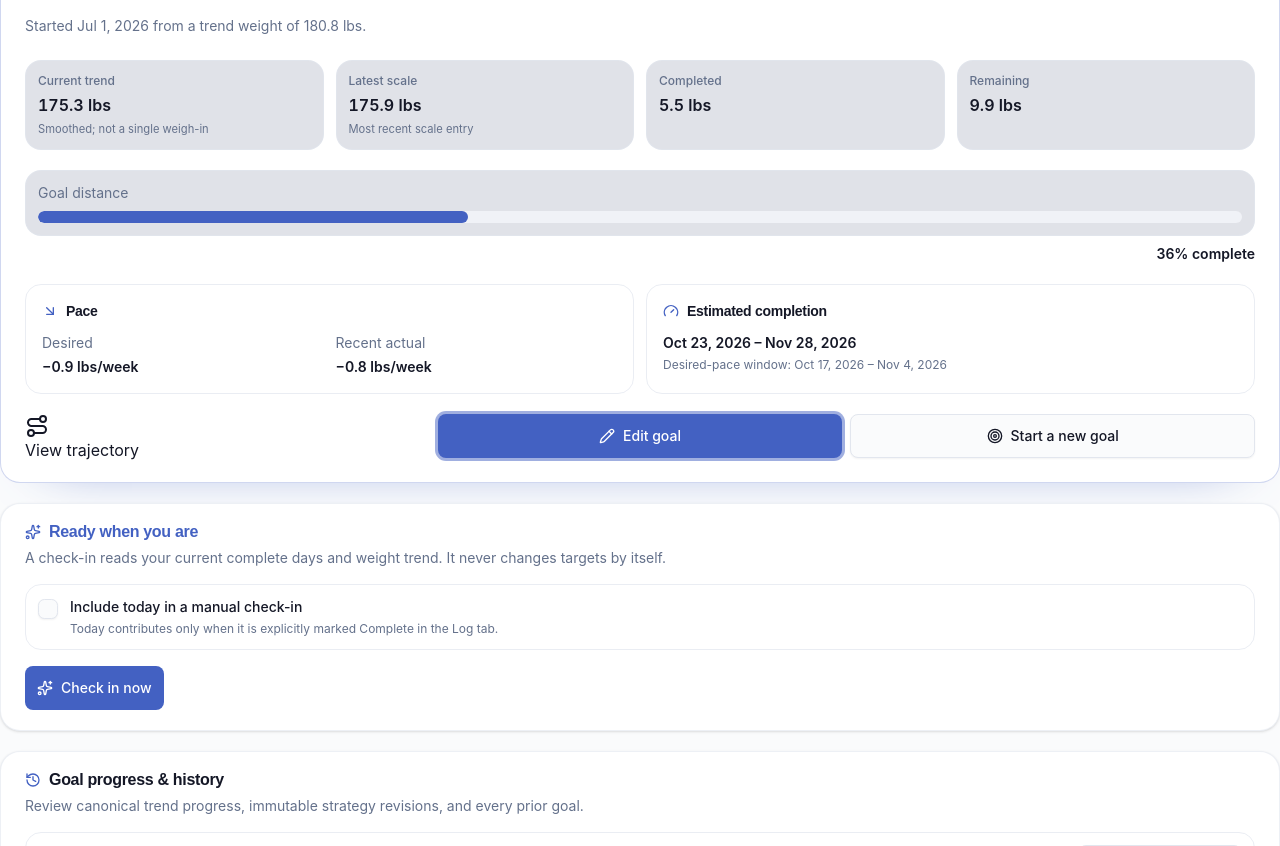
it: AdaptiveCoach › restores focus to the goal action after the dialog closes
(page scrolled)
Step 1. Click the button "Edit goal" → (640, 436), box x1=438 y1=414 x2=842 y2=458
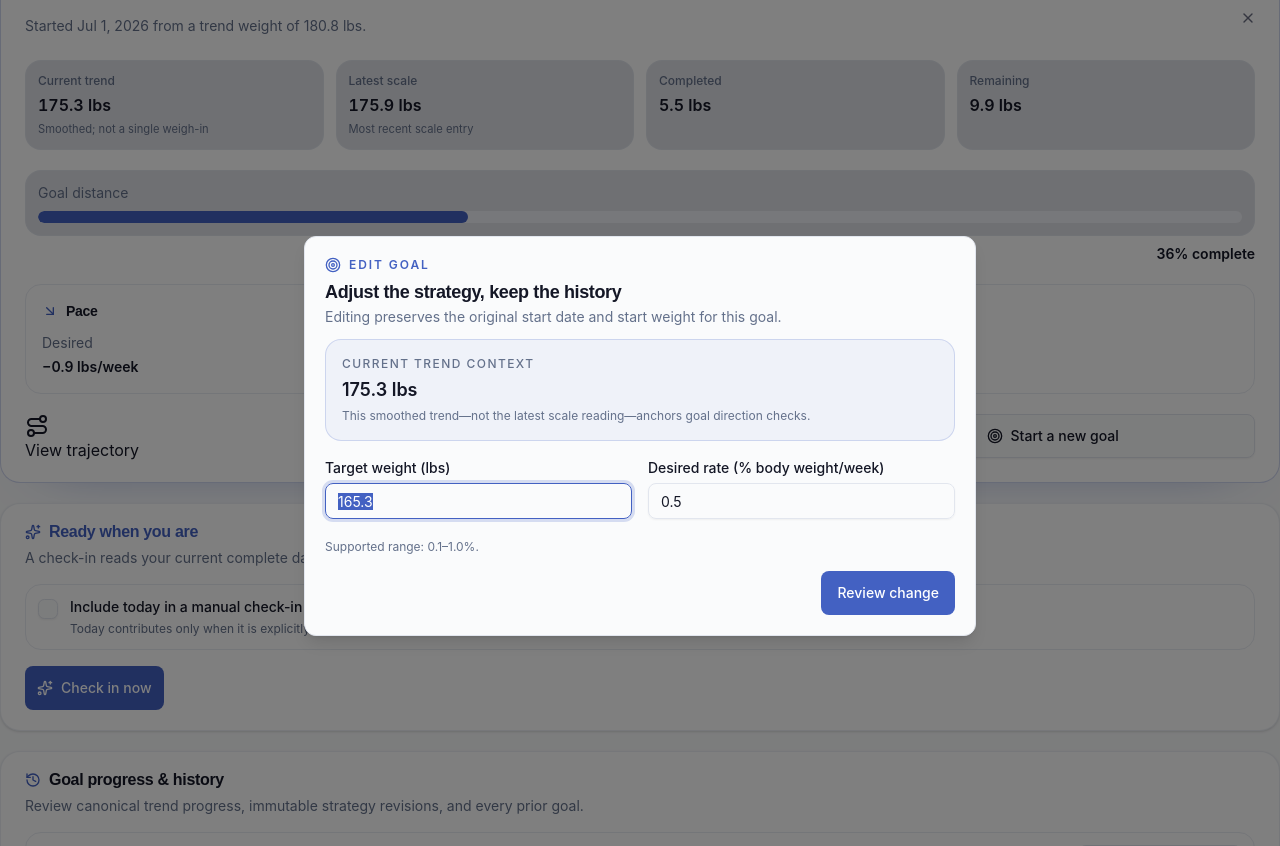
Now the dialog is shown, box x1=304 y1=236 x2=976 y2=636
Step 2. Press Escape
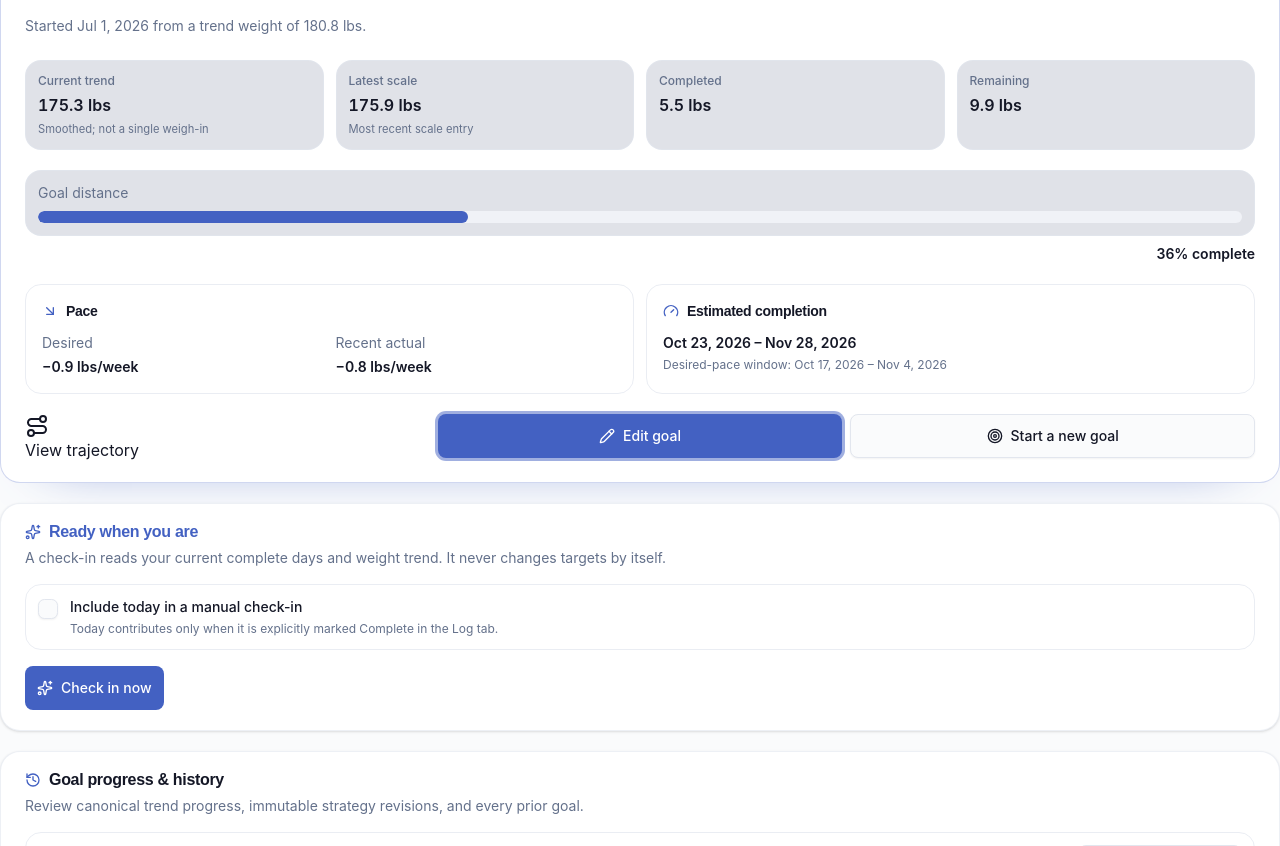
Now the dialog is gone
